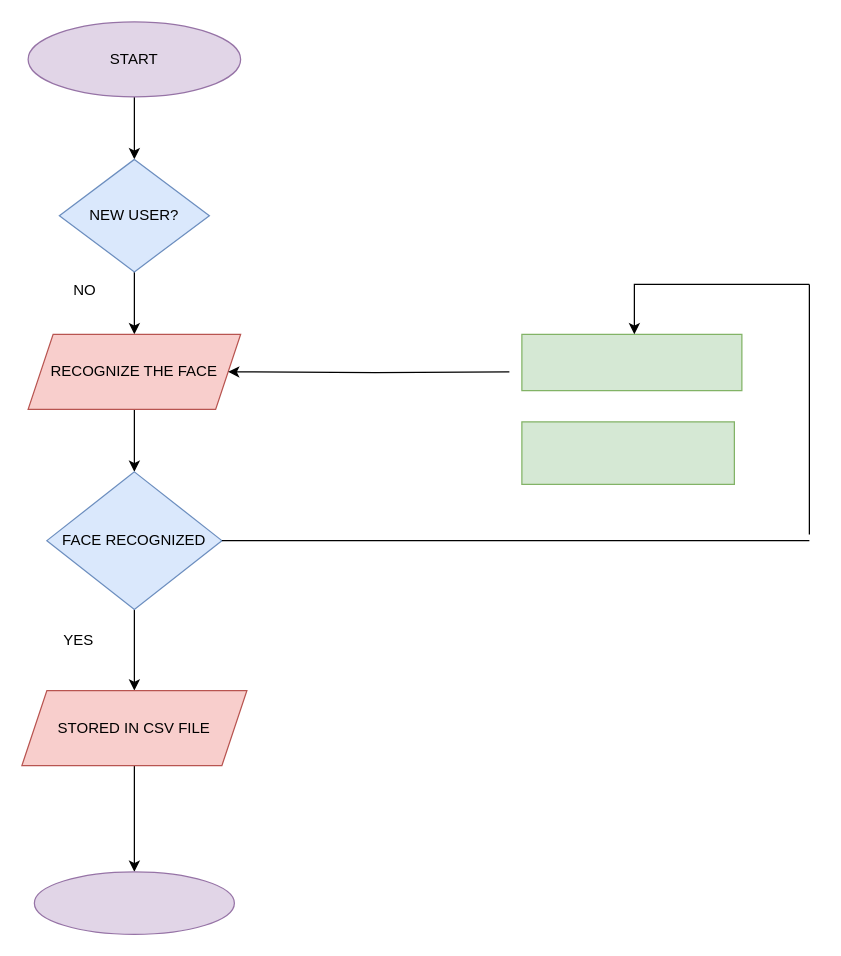
The diagram is 841 pixels wide and 956 high, and some of its shapes have lost their labels. The box of each missing label's shape, as (x1, y1, x2, y2) in pixels:
END: (33, 871, 234, 934)
GIVE YOUR PHOTOGRAPH: (521, 333, 742, 391)
STORE THE FACE DATA IN FOLDER ON YOUR NAME: (521, 421, 734, 484)
